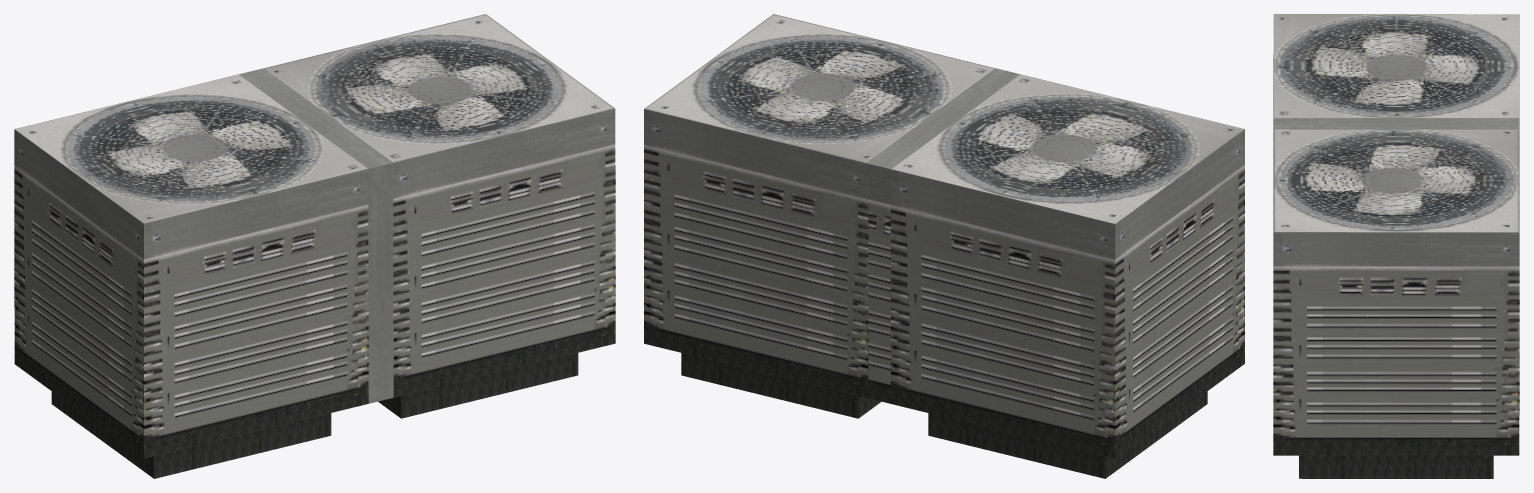
File: BGN- AC UNIT 2.fbx
The picture shows the model from 3 angles, left to right: view 1: azimuth 30°, elevation 25°; view 2: azimuth 150°, elevation 25°; view 3: azimuth 270°, elevation 25°; orthographic projection. The views are drawn at different scales.
Visible parts, largest first — view 1: BGN__AC_UNIT_2; view 2: BGN__AC_UNIT_2; view 3: BGN__AC_UNIT_2.
Part boxes in pixels (left/top/right/bottom): BGN__AC_UNIT_2: left=14, top=14, right=615, bottom=478; BGN__AC_UNIT_2: left=644, top=14, right=1244, bottom=478; BGN__AC_UNIT_2: left=1273, top=14, right=1519, bottom=478.
Size of the model in its own units: 210 by 115 by 100.
Materials: 1 (1 with a texture image).
